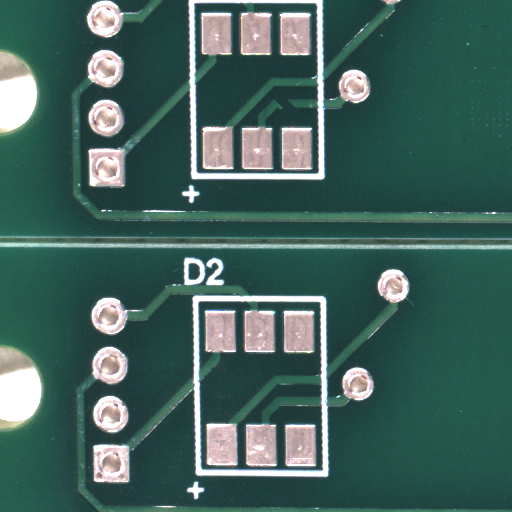Open_circuit: (284, 103, 304, 115)
